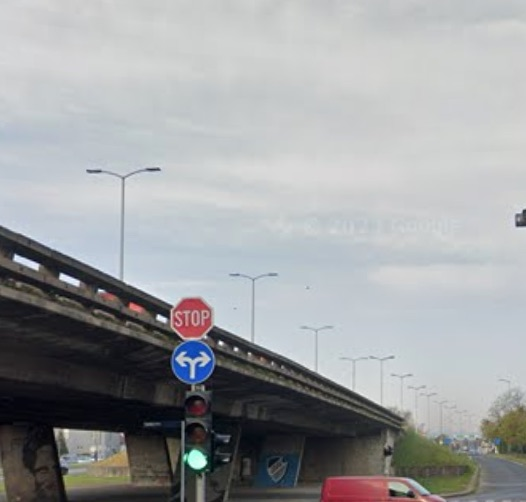Obavezno zaustavljanje: (170, 297, 215, 339)
